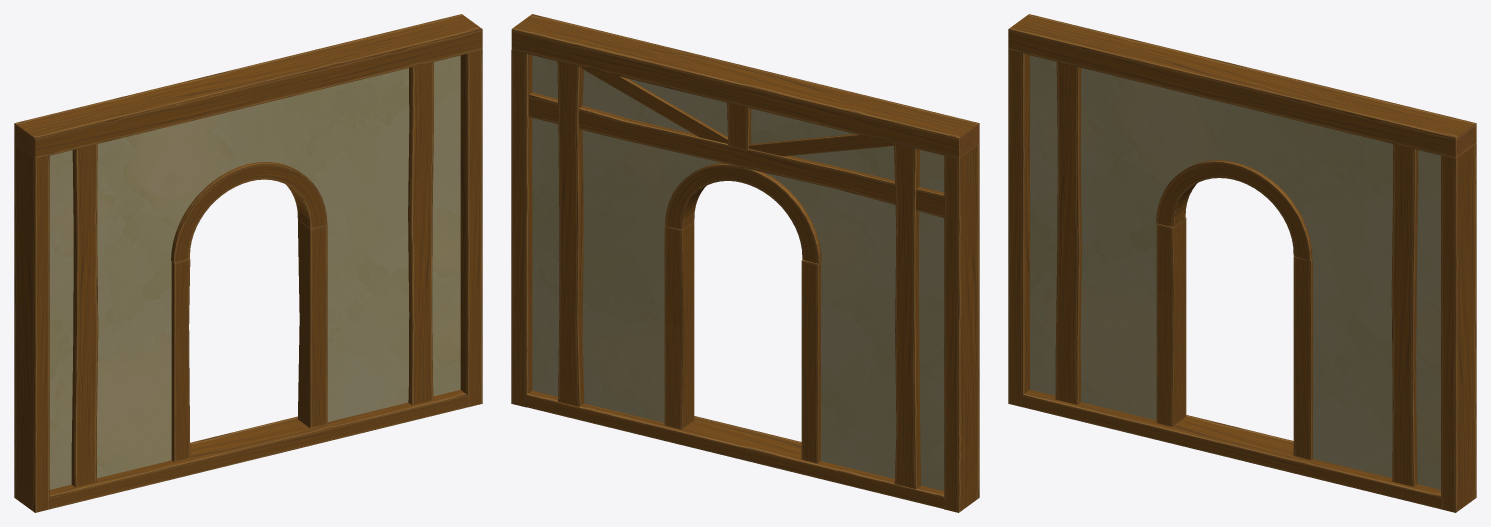
Rendered from SM_House_Wall_5x4_Door_D_03.fbx.
The picture shows the model from 3 angles, left to right: view 1: azimuth 30°, elevation 25°; view 2: azimuth 150°, elevation 25°; view 3: azimuth 330°, elevation 25°; orthographic projection.
Visible parts, largest first — view 1: SM_House_Wall_5x4_Door_D_03; view 2: SM_House_Wall_5x4_Door_D_03; view 3: SM_House_Wall_5x4_Door_D_03.
Boxes of the visible parts, left/top/right/bottom form: SM_House_Wall_5x4_Door_D_03: left=14, top=14, right=482, bottom=512; SM_House_Wall_5x4_Door_D_03: left=511, top=14, right=979, bottom=512; SM_House_Wall_5x4_Door_D_03: left=1008, top=14, right=1476, bottom=512.
Size of the model in its own units: 5 by 4 by 0.4024.
